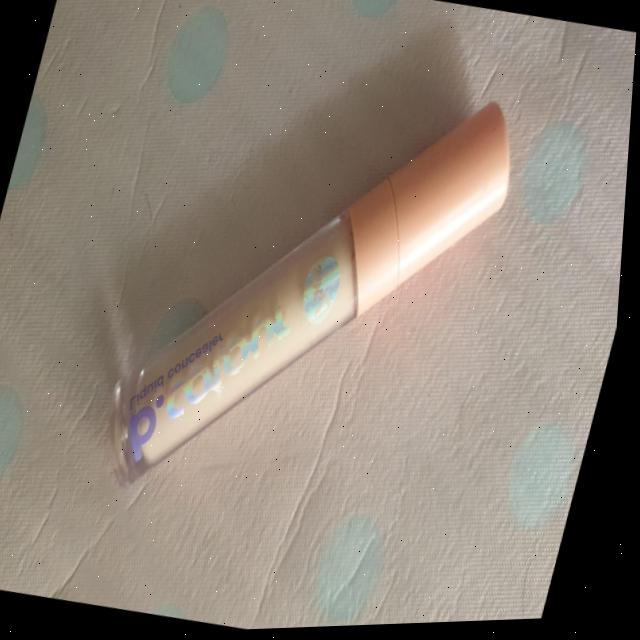lip gloss: (67, 13, 557, 566)
